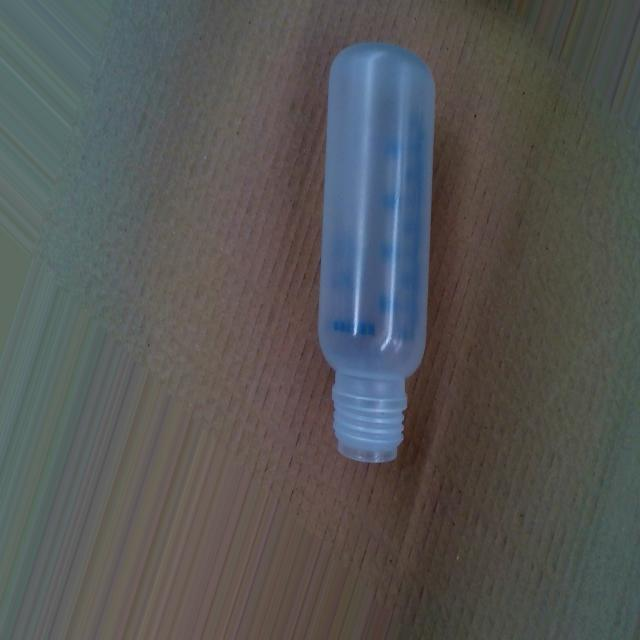bottle: (318, 40, 439, 463)
